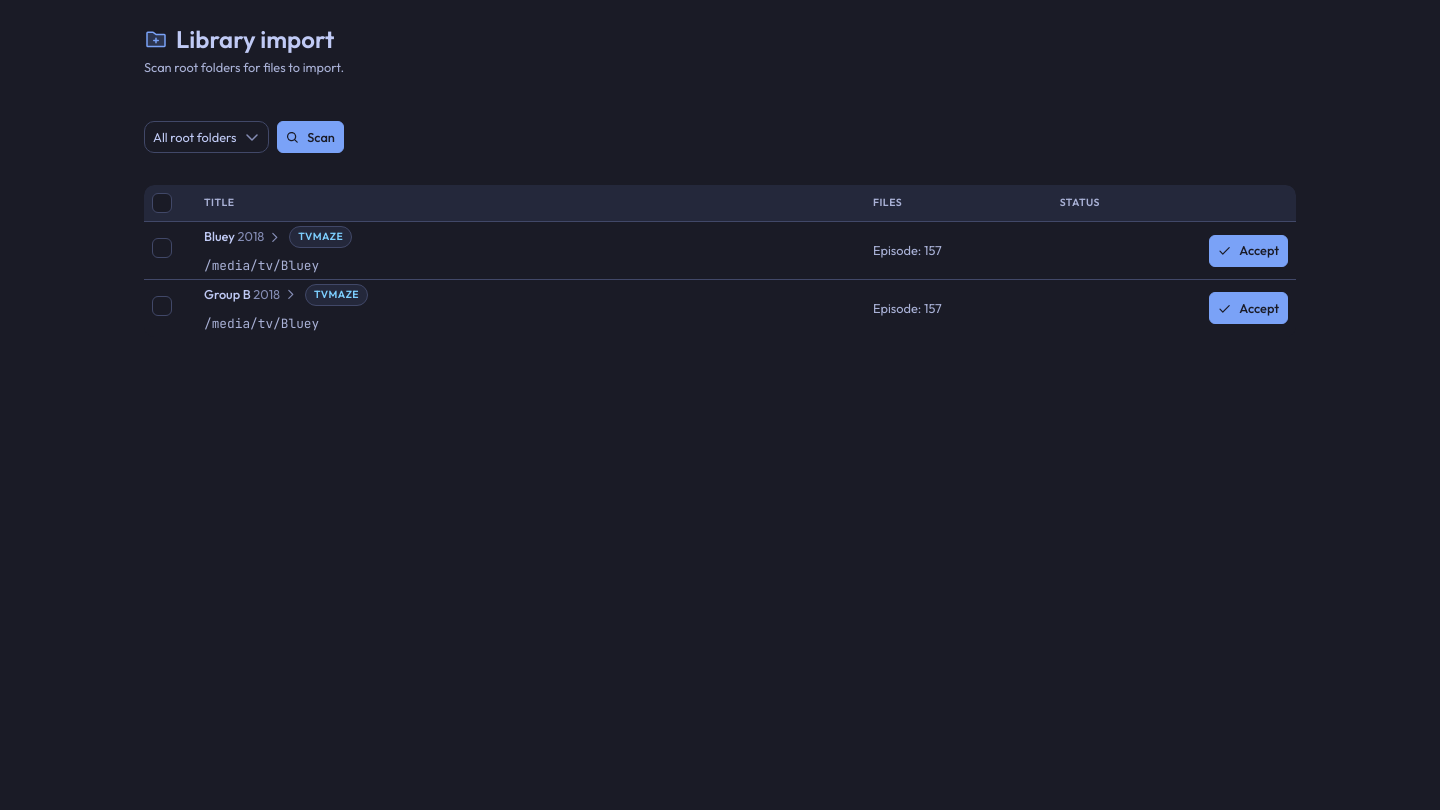
Test: LibraryImportPage › reports one success toast for a page-mode bulk accept where every selected group is queued
Expected: the row "Bluey 2018 tvmaze /media/tv/Bluey Episode: 157 Accept" is shown, [144,222,1296,280]
Click the checkbox named "Select all groups". click: coordinates (162, 203)
box: [152,193,172,213]
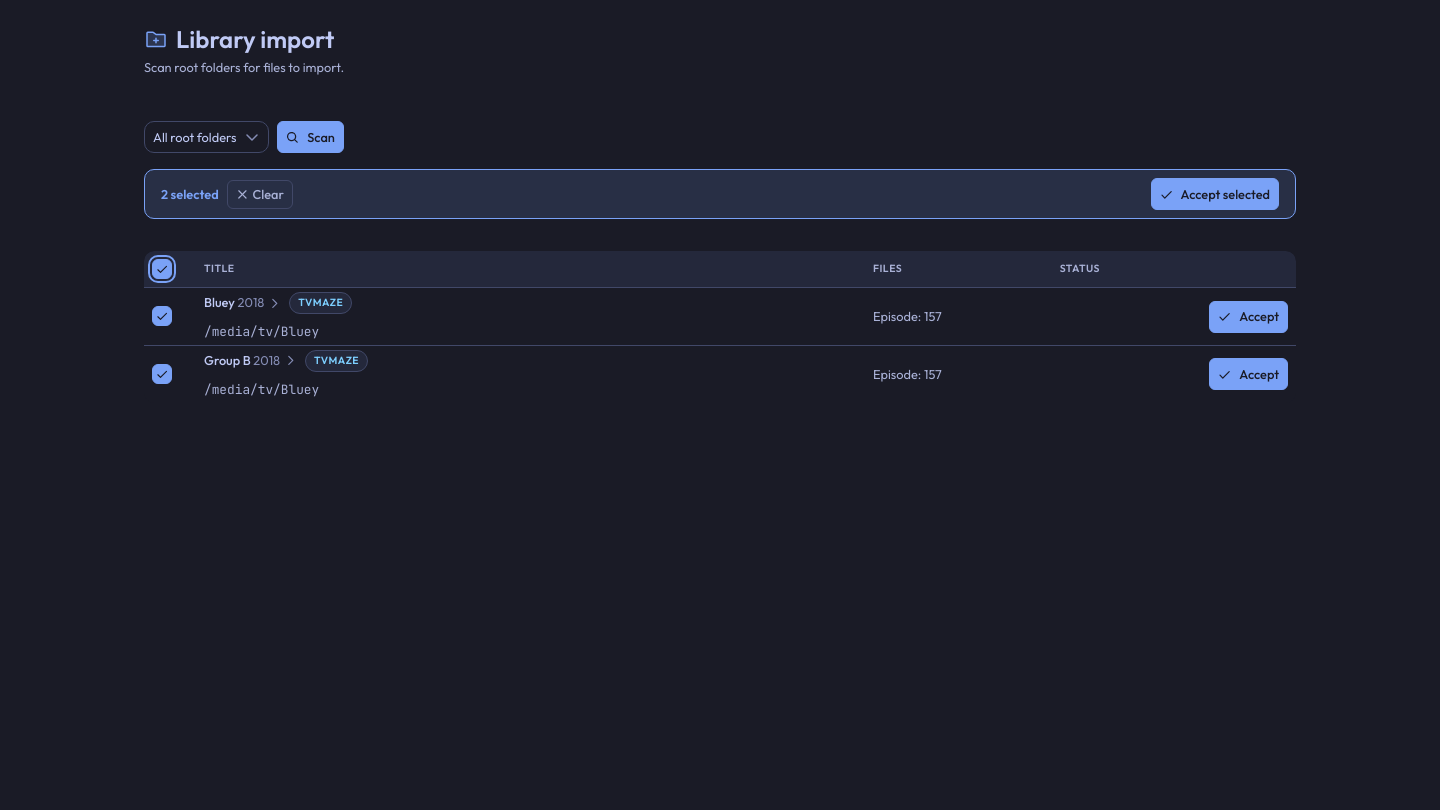
Click the button "Accept selected". click: coordinates (1215, 194)
box: [1151,178,1279,210]
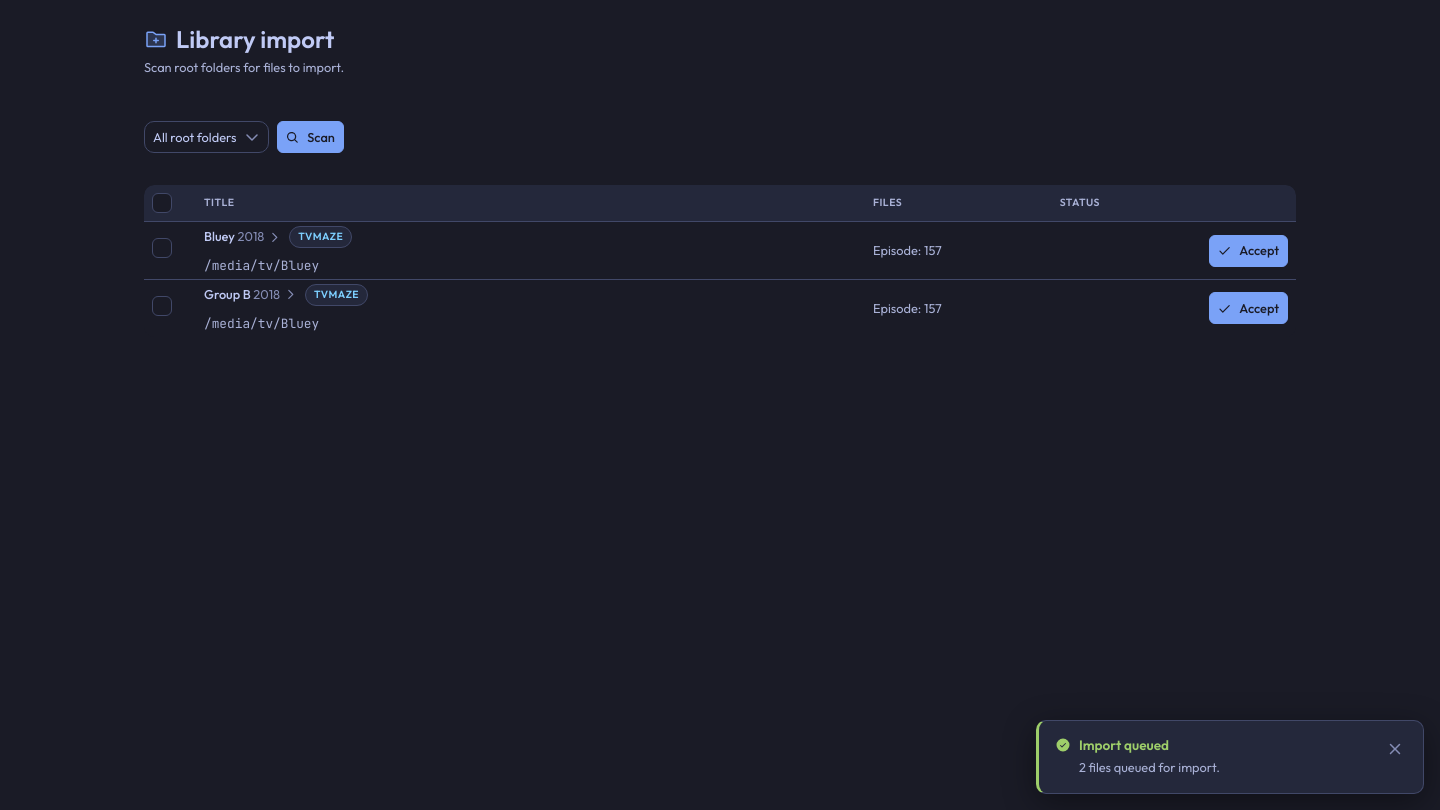
Expected: the text "Import queued" is shown, [1079,736,1169,754]
Expected: the text "2 files queued for import." is shown, [1079,758,1220,777]
